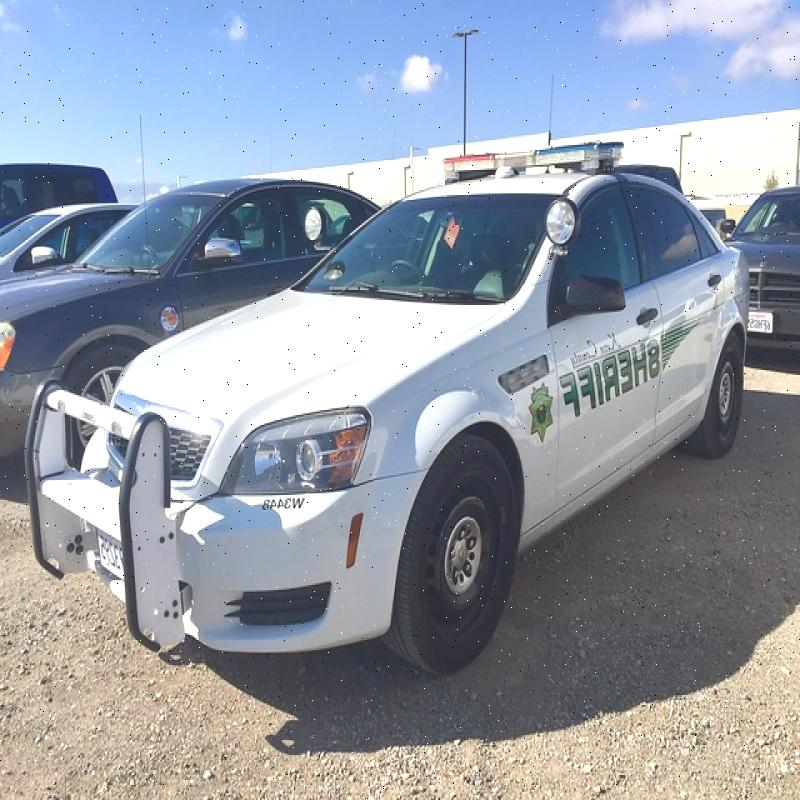AmbulanceSiren: (449, 128, 621, 182)
